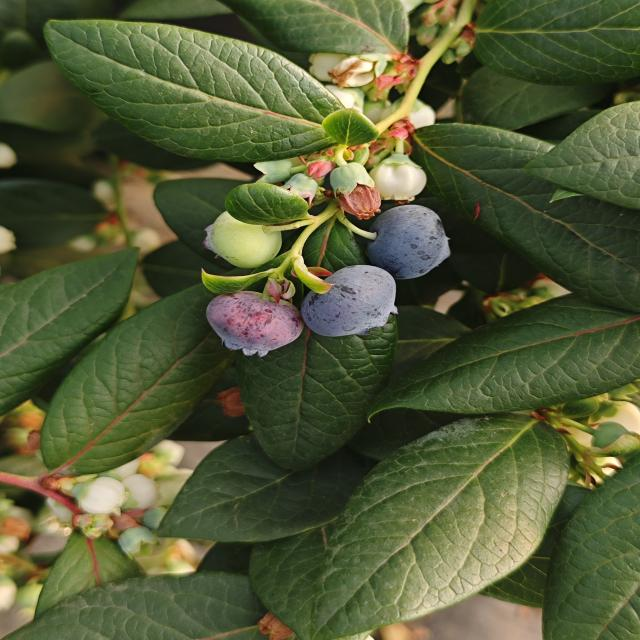ripe: (308, 265, 408, 344), (375, 192, 460, 276)
